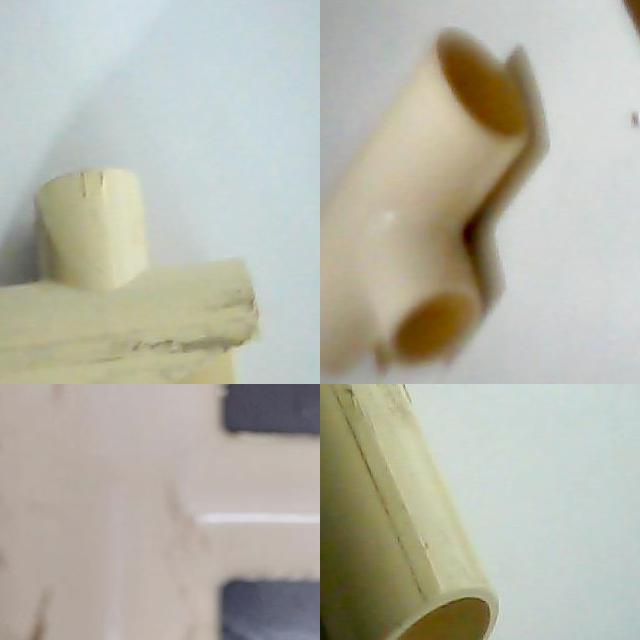Defective: (136, 343, 265, 384), (0, 584, 65, 640)
T Joint: (320, 30, 531, 384), (0, 168, 260, 384), (320, 384, 501, 640)
